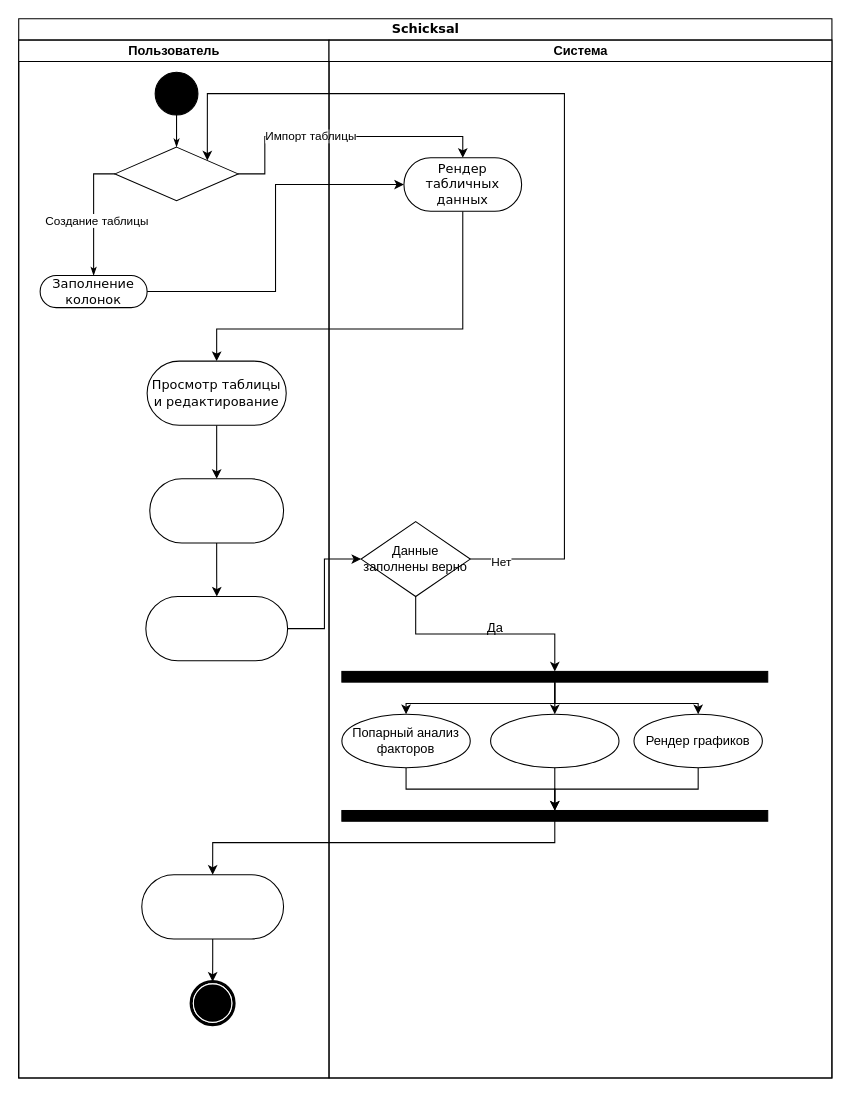
This 851x1097 diagram has some shape labels left out. The centre of each missing label's shape, as x and y in pixels:
"Ввод данных" belongs at (176,173).
"Выбор дисперсионного анализа" belongs at (216,510).
"Заполнение колонок факторов и результатов" belongs at (216,628).
"Просмотр результатов" belongs at (212,906).
"Рендер табличных результатов" belongs at (554,740).
